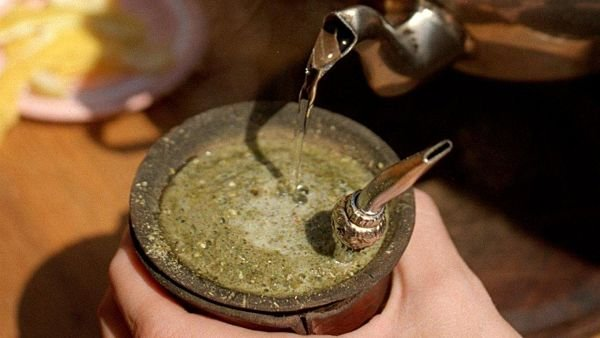guampa: (118, 74, 453, 324)
